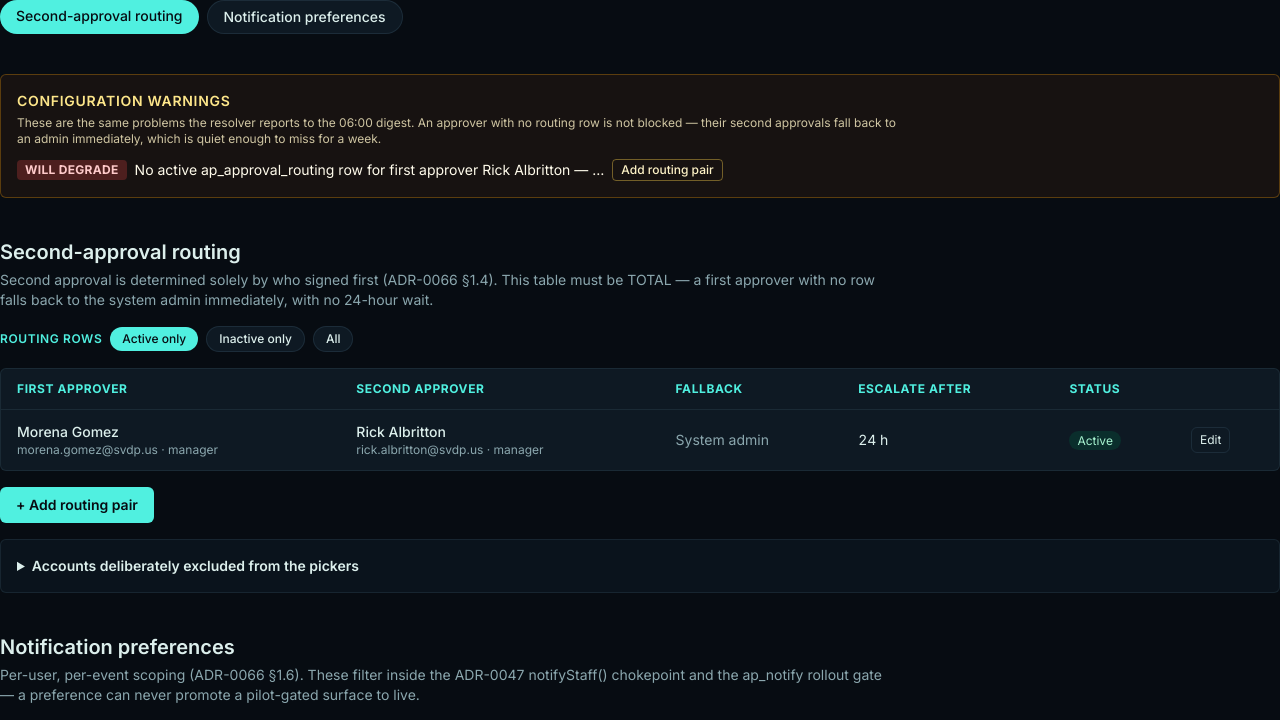
Test: second-approver picker › omits the email-less operator PIN account even though its name matches an approver
Click the button "Add routing pair": (667, 170) 612,159 -> 723,181
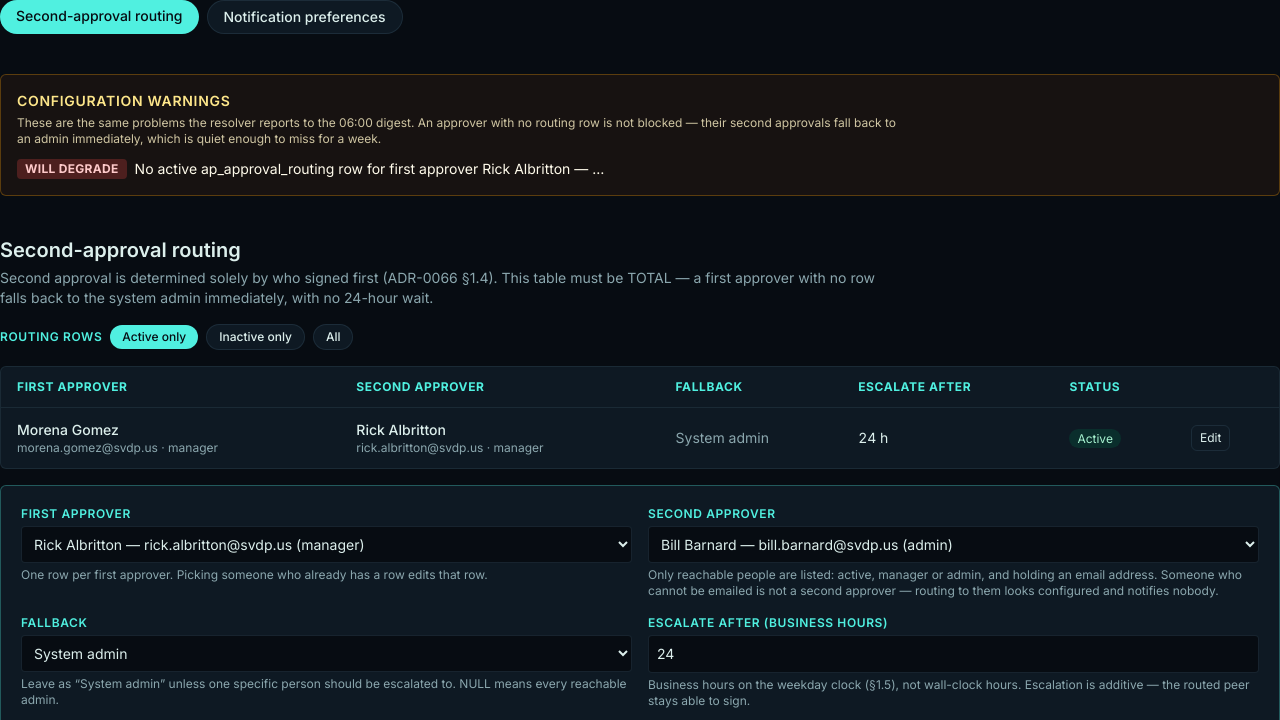
Expected: the dropdown with test id "ap-routing-second" is shown, 648,526 -> 1259,563
